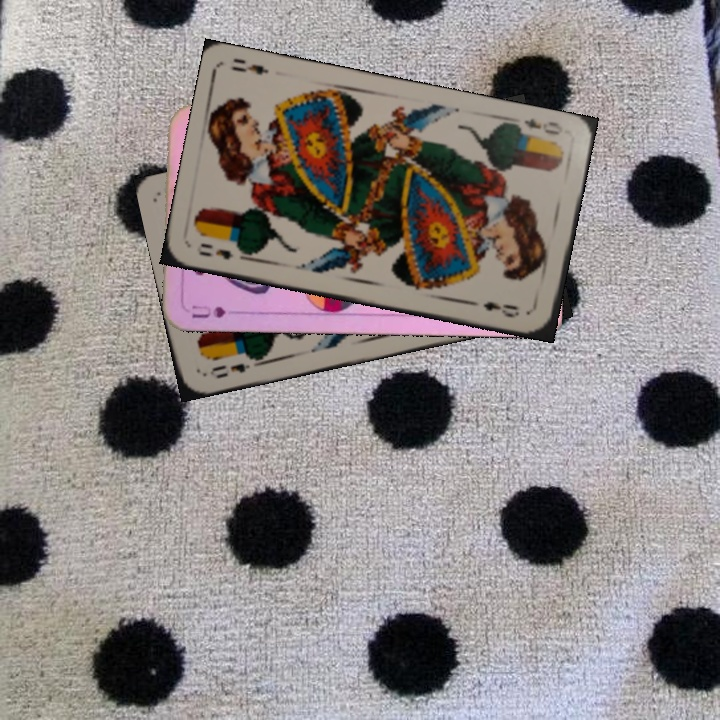EO: (205, 351, 258, 381), (195, 239, 248, 263), (520, 114, 566, 138)
SU: (188, 301, 246, 321)
